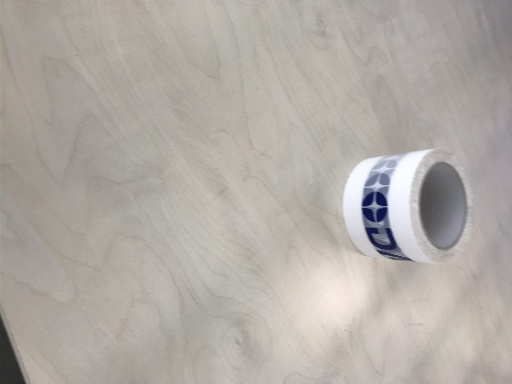Nastro: (342, 146, 475, 268)
